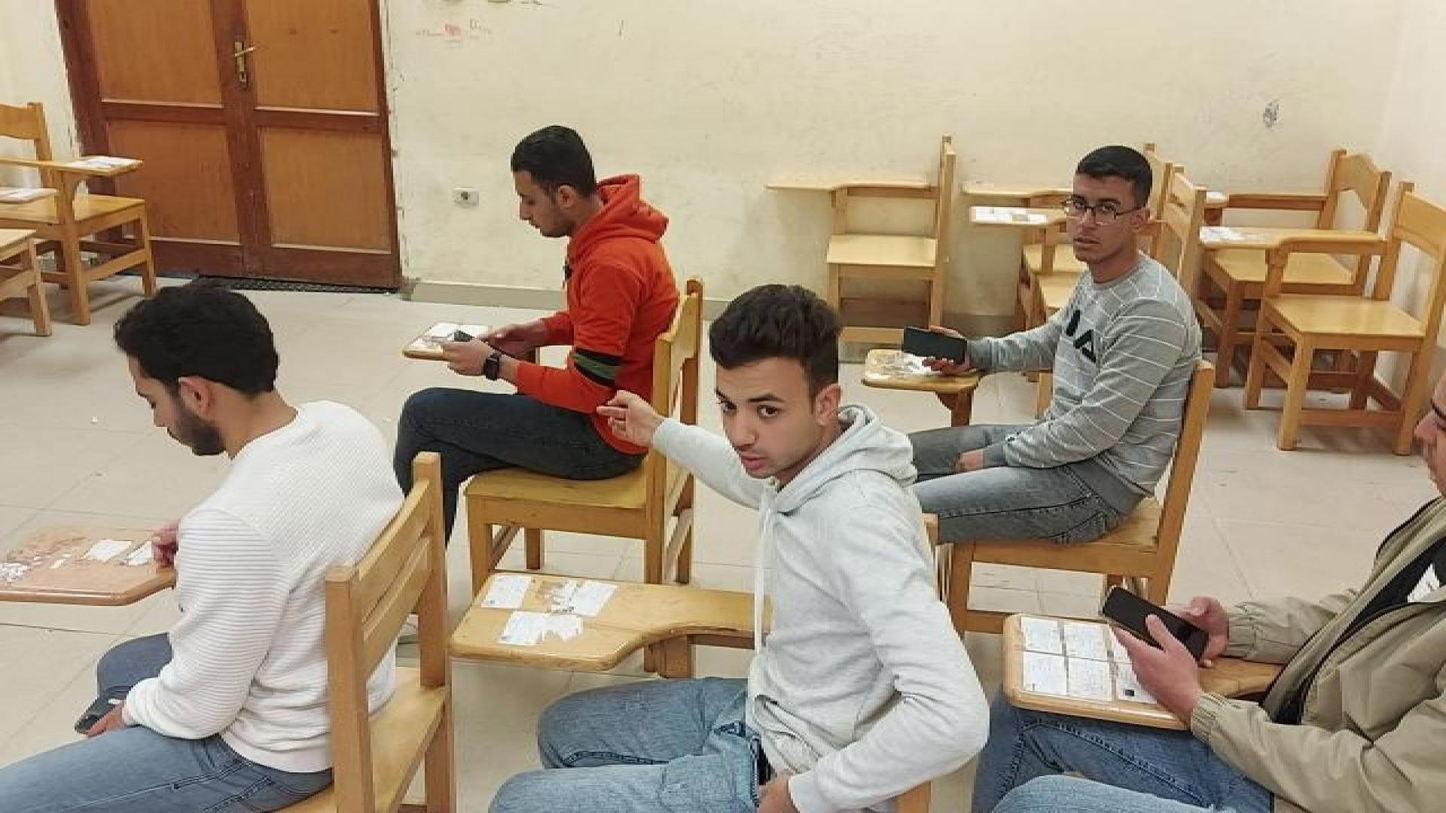phone: (1096, 581, 1209, 664), (73, 686, 150, 726), (899, 325, 967, 367), (444, 325, 500, 365)
